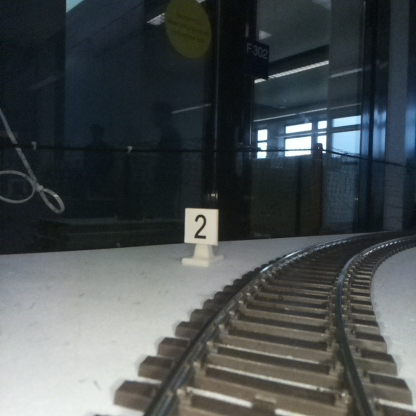white-stop-2: (184, 208, 217, 264)
